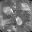people: (0, 16, 12, 29), (2, 7, 14, 16), (16, 16, 23, 25)
